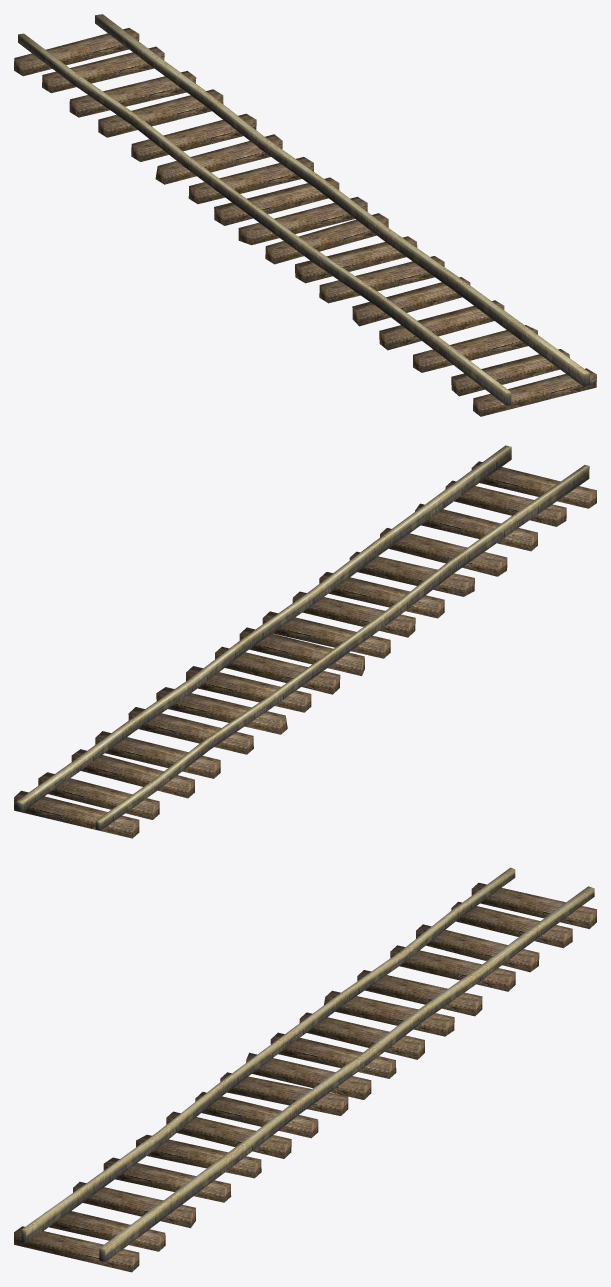
Rendered from S_Build_West081.FBX.
3 renders of one model, top to bottom at view 1: azimuth 30°, elevation 25°; view 2: azimuth 150°, elevation 25°; view 3: azimuth 330°, elevation 25°, orthographic.
Visible parts, largest first — view 1: S_Build_West081; view 2: S_Build_West081; view 3: S_Build_West081.
Boxes of the visible parts, <box> form: S_Build_West081: <box>14,14,596,416</box>; S_Build_West081: <box>14,445,596,838</box>; S_Build_West081: <box>14,867,596,1272</box>.
Bounding box in the file's own units: 262 × 1800 × 58.78.
